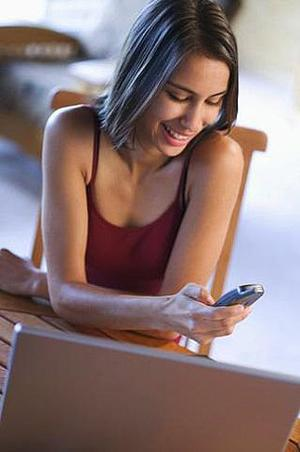person: (2, 3, 253, 343)
